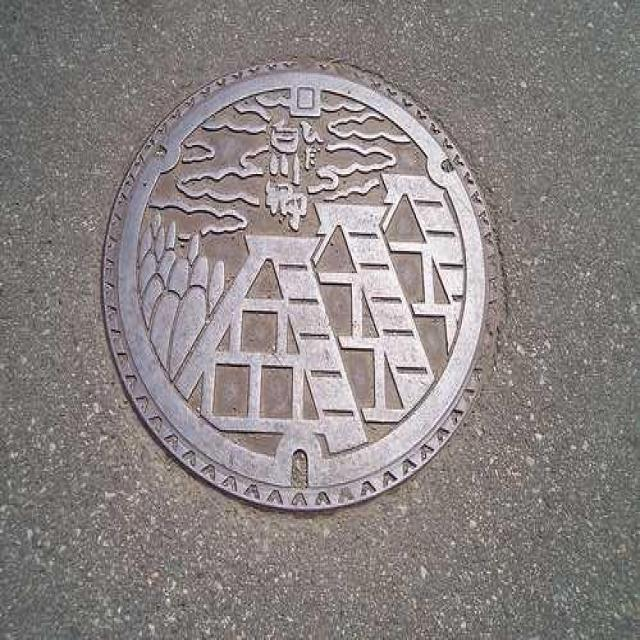manhole: (104, 63, 494, 511)
